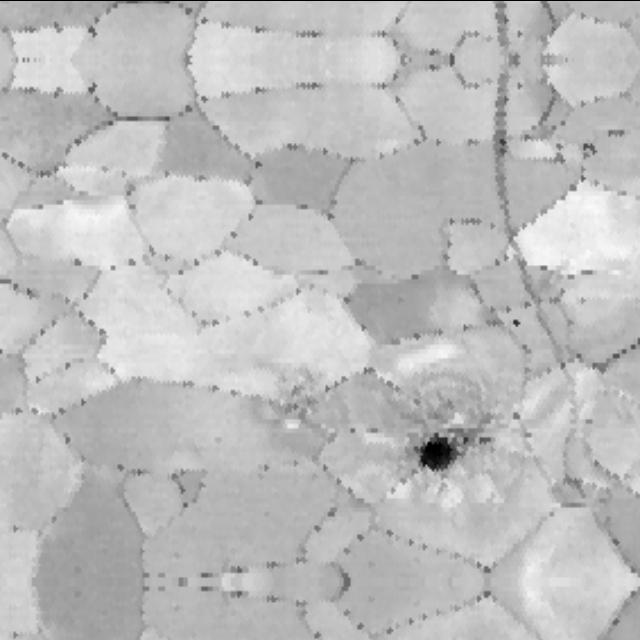good_void: (392, 425, 481, 499), (263, 368, 324, 430), (601, 117, 633, 146), (578, 138, 601, 164), (508, 313, 524, 330), (514, 23, 528, 42), (514, 78, 528, 96), (577, 294, 589, 306)
